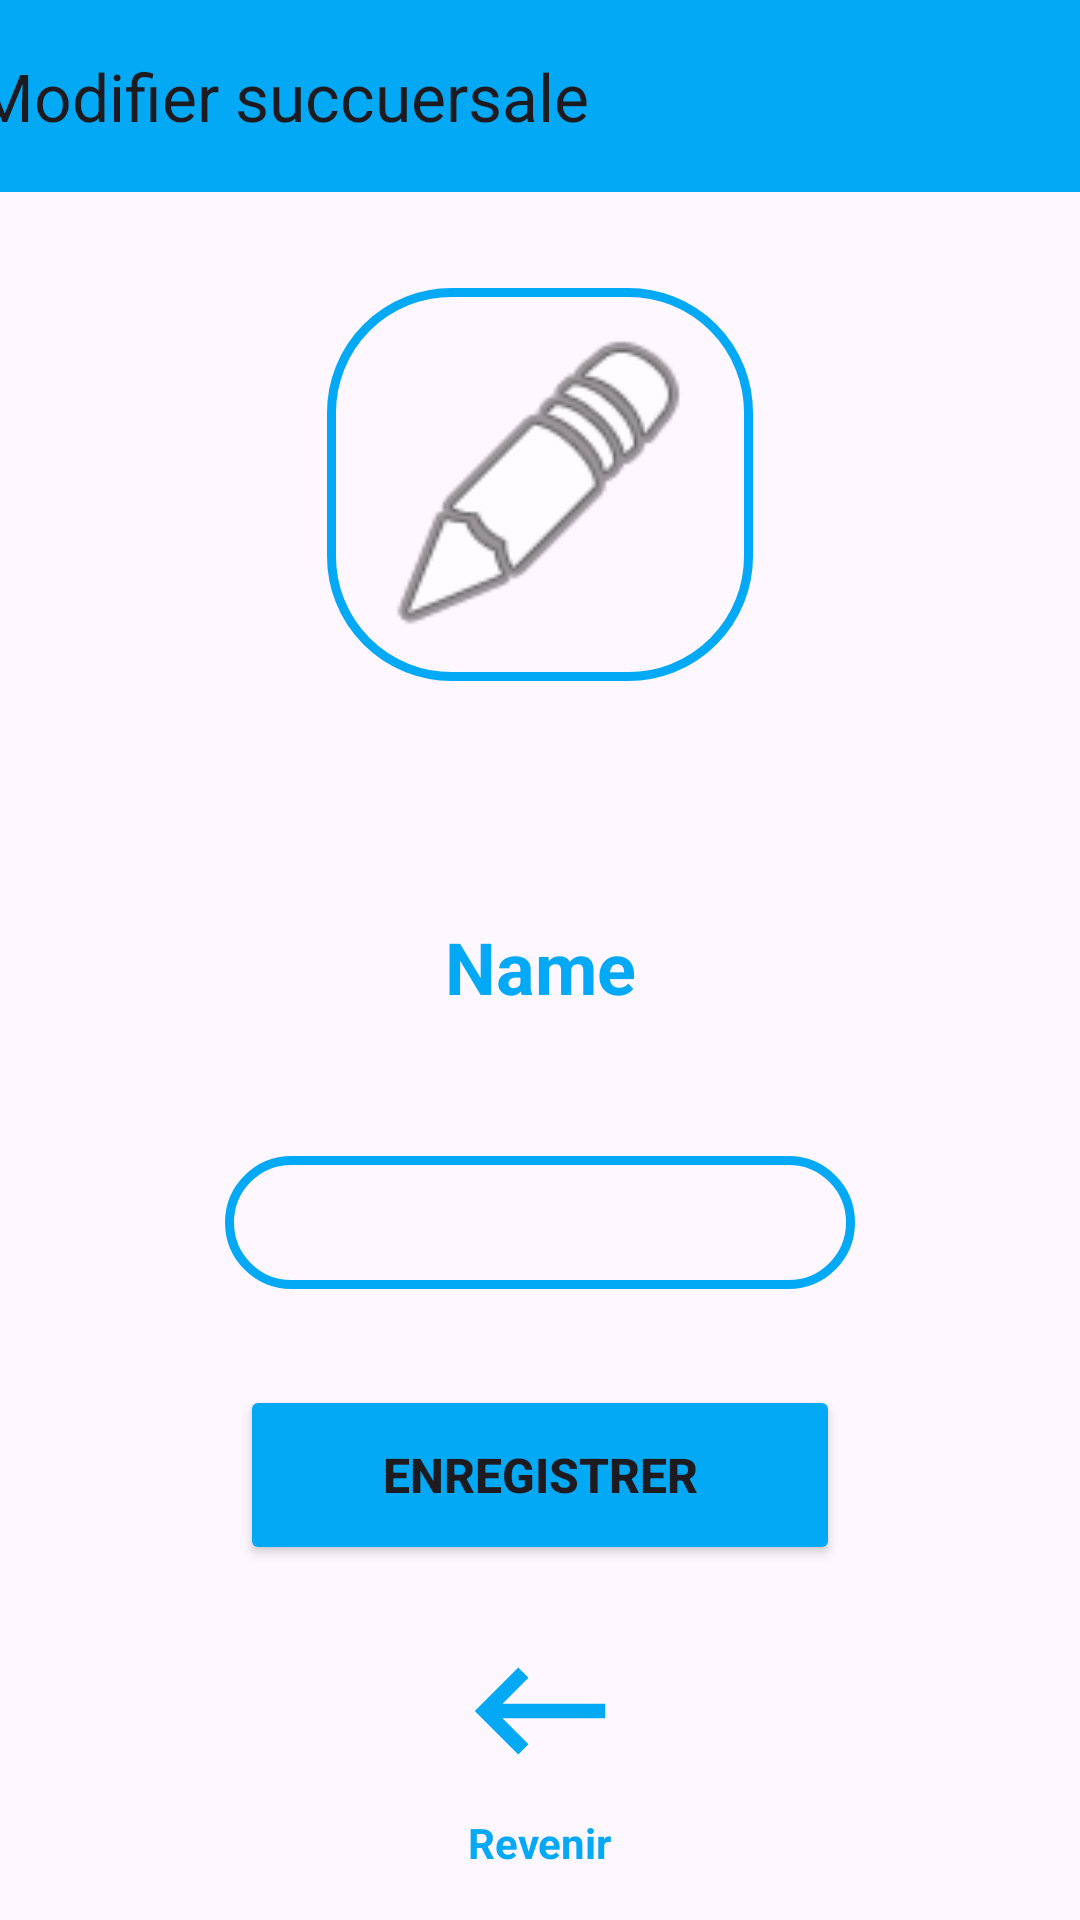

Locate icon controls on the screen. Image size 1080 x 1920, boxes as (x1, y1, x2, y2).
keyboard backspace: (475, 1667, 606, 1755)
